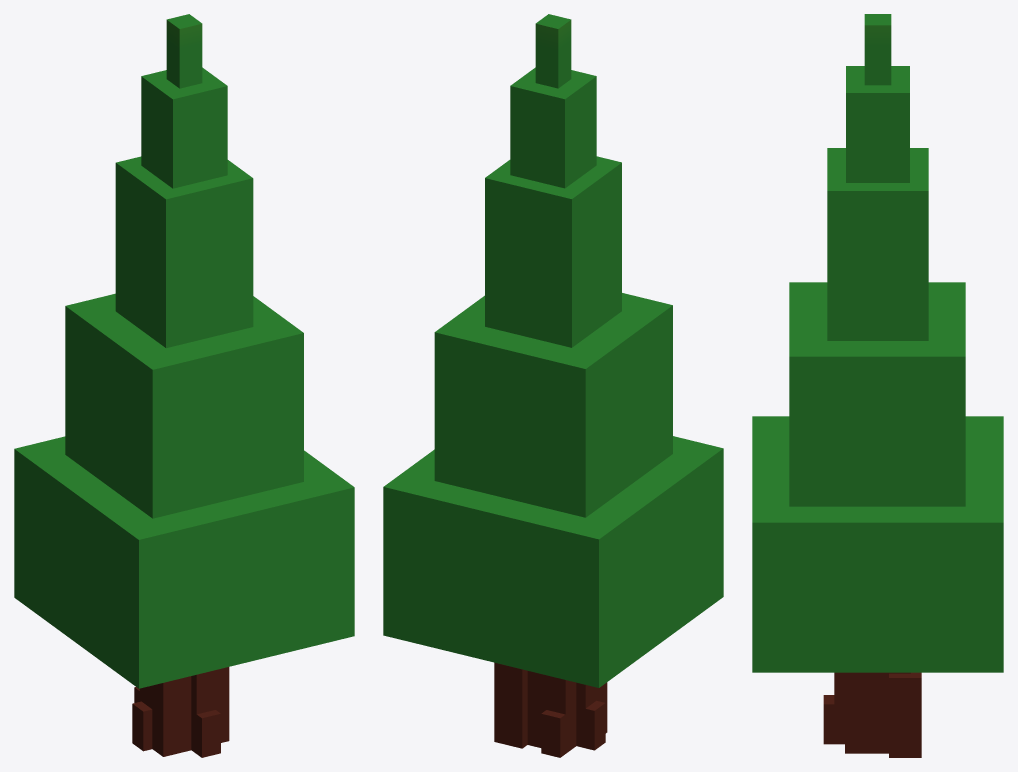
The model's file is tree.FBX.
The picture shows the model from 3 angles, left to right: view 1: azimuth 30°, elevation 25°; view 2: azimuth 150°, elevation 25°; view 3: azimuth 270°, elevation 25°; orthographic projection.
Visible parts, largest first — view 1: tree; view 2: tree; view 3: tree.
Boxes of the visible parts, x1,y1,x2,y2 form: tree: [14, 14, 354, 757]; tree: [383, 14, 723, 757]; tree: [752, 14, 1003, 757].
Bounding box in the file's own units: 37.34 × 118 × 37.34.
